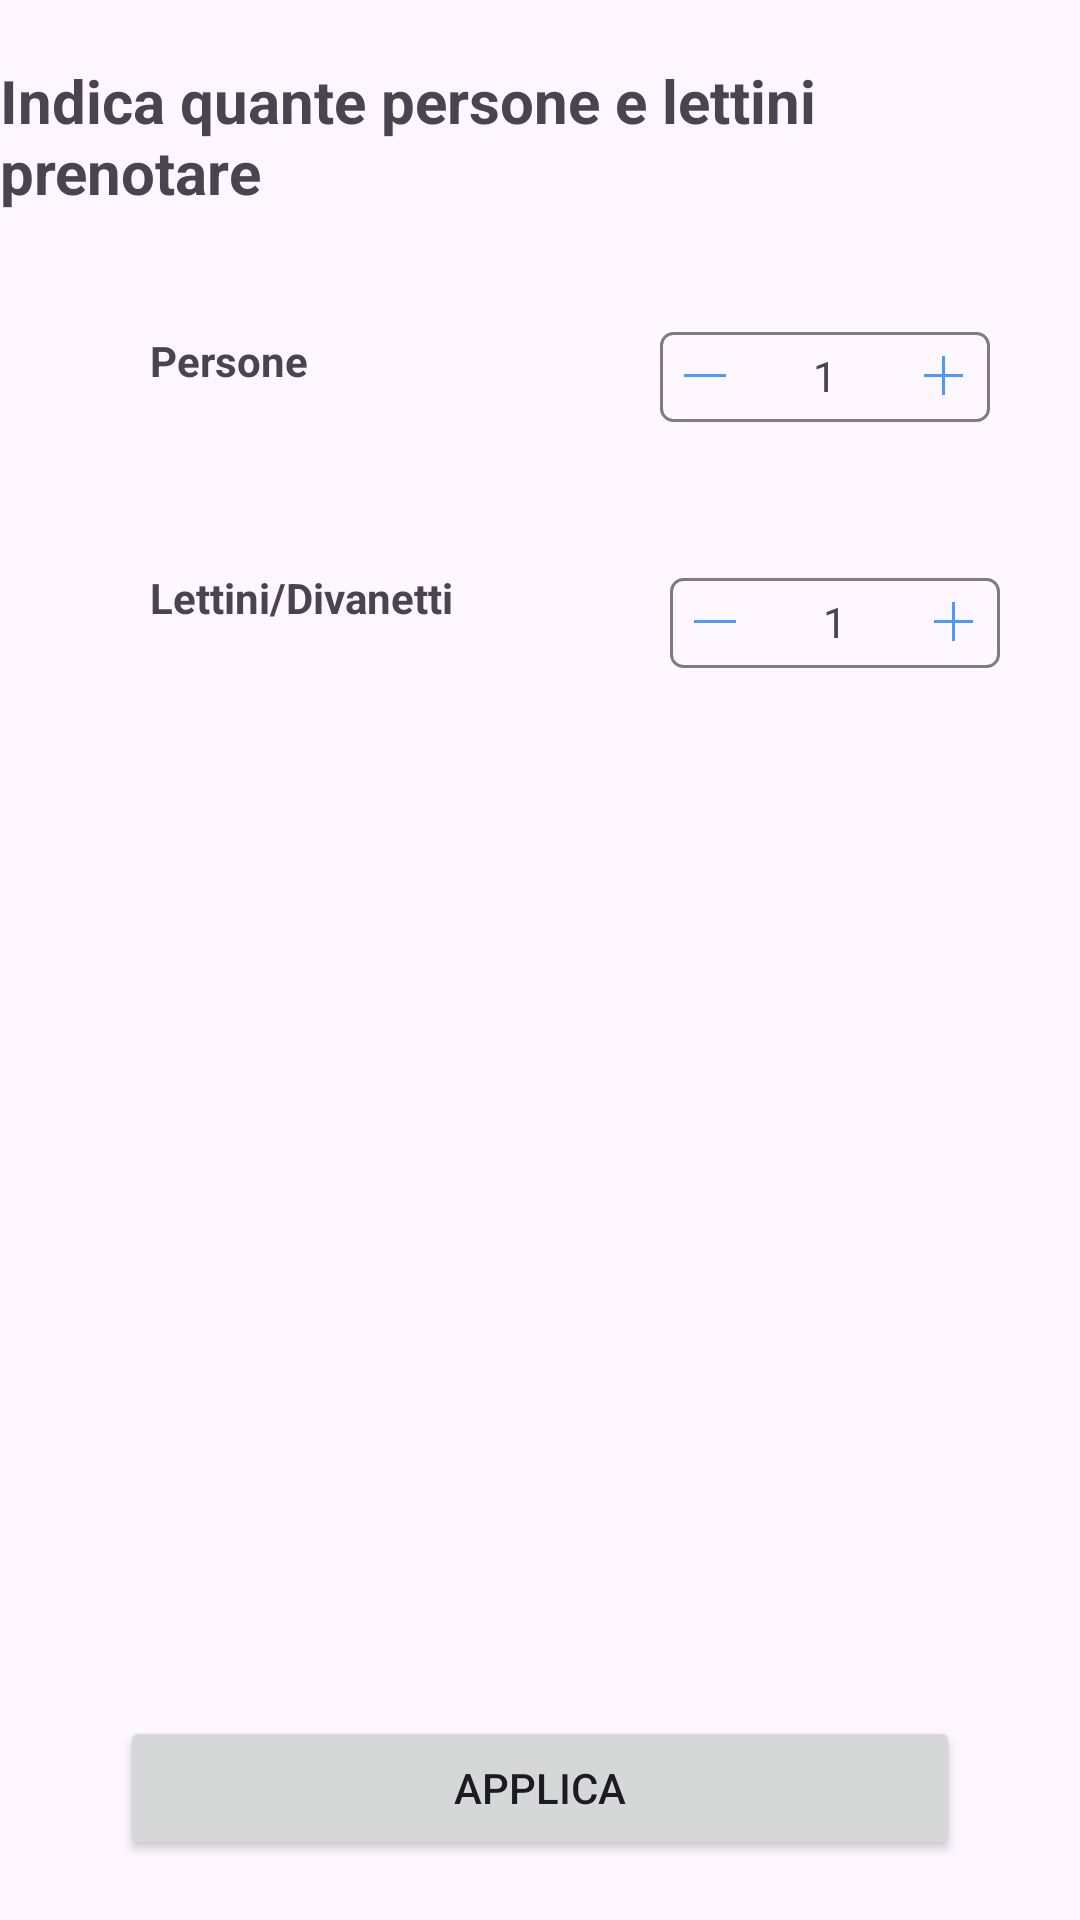

Where to tap for icons on this 1080w x 1920h app screen, as (x,y):
bottone piu: (943,375), (953,621)
